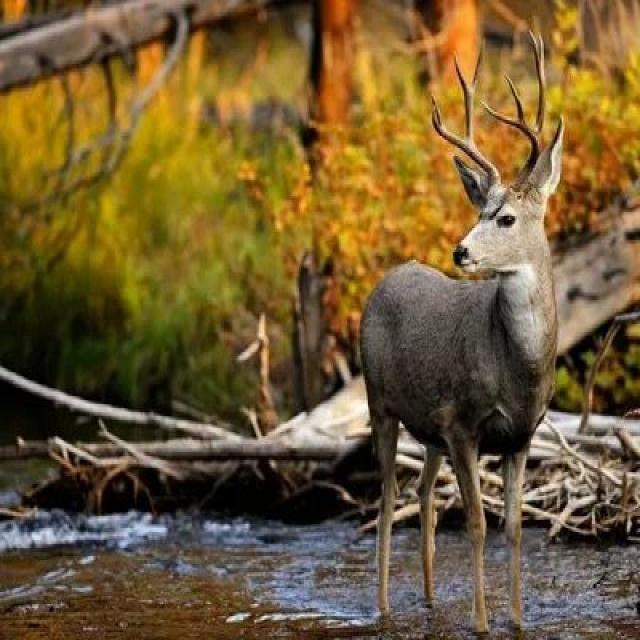deer: (336, 132, 579, 600)
